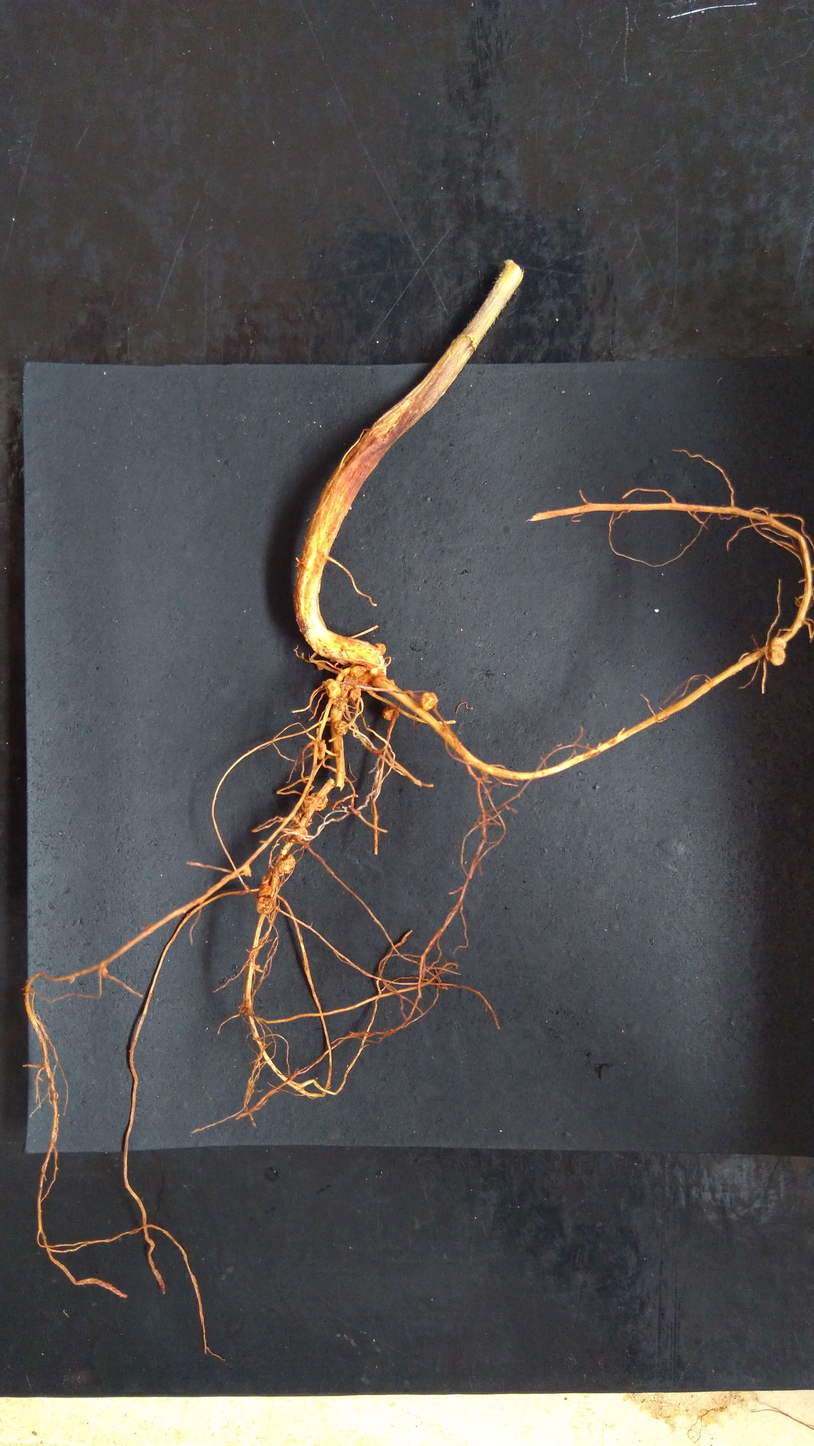nodule: (769, 635, 789, 667), (342, 672, 374, 691), (286, 823, 310, 844), (324, 678, 342, 700), (256, 896, 278, 914), (261, 870, 281, 889), (277, 853, 295, 874), (294, 809, 313, 828), (420, 691, 438, 711), (309, 739, 326, 760), (311, 791, 328, 811), (333, 688, 348, 710), (382, 705, 400, 720), (301, 794, 316, 812), (333, 719, 348, 735), (350, 664, 367, 677), (347, 686, 361, 701), (373, 642, 387, 656), (257, 883, 271, 897), (242, 864, 253, 877), (316, 660, 326, 671), (404, 690, 414, 699), (369, 667, 378, 676), (100, 966, 108, 975), (388, 679, 395, 685)
